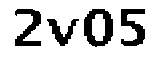0: (81, 3, 115, 49)
2: (11, 7, 43, 51)
5: (117, 5, 149, 48)
v: (46, 13, 81, 50)
